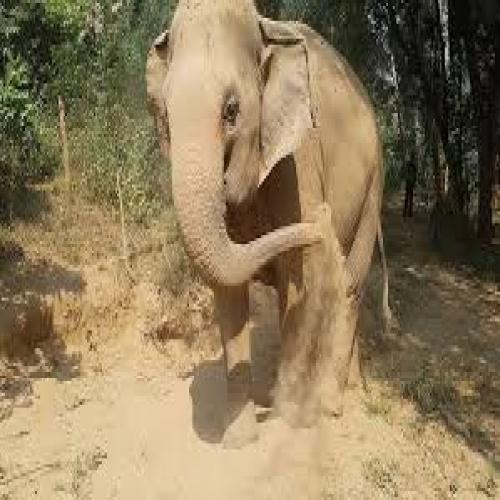asian_elephant-endangered: (143, 0, 394, 455)
